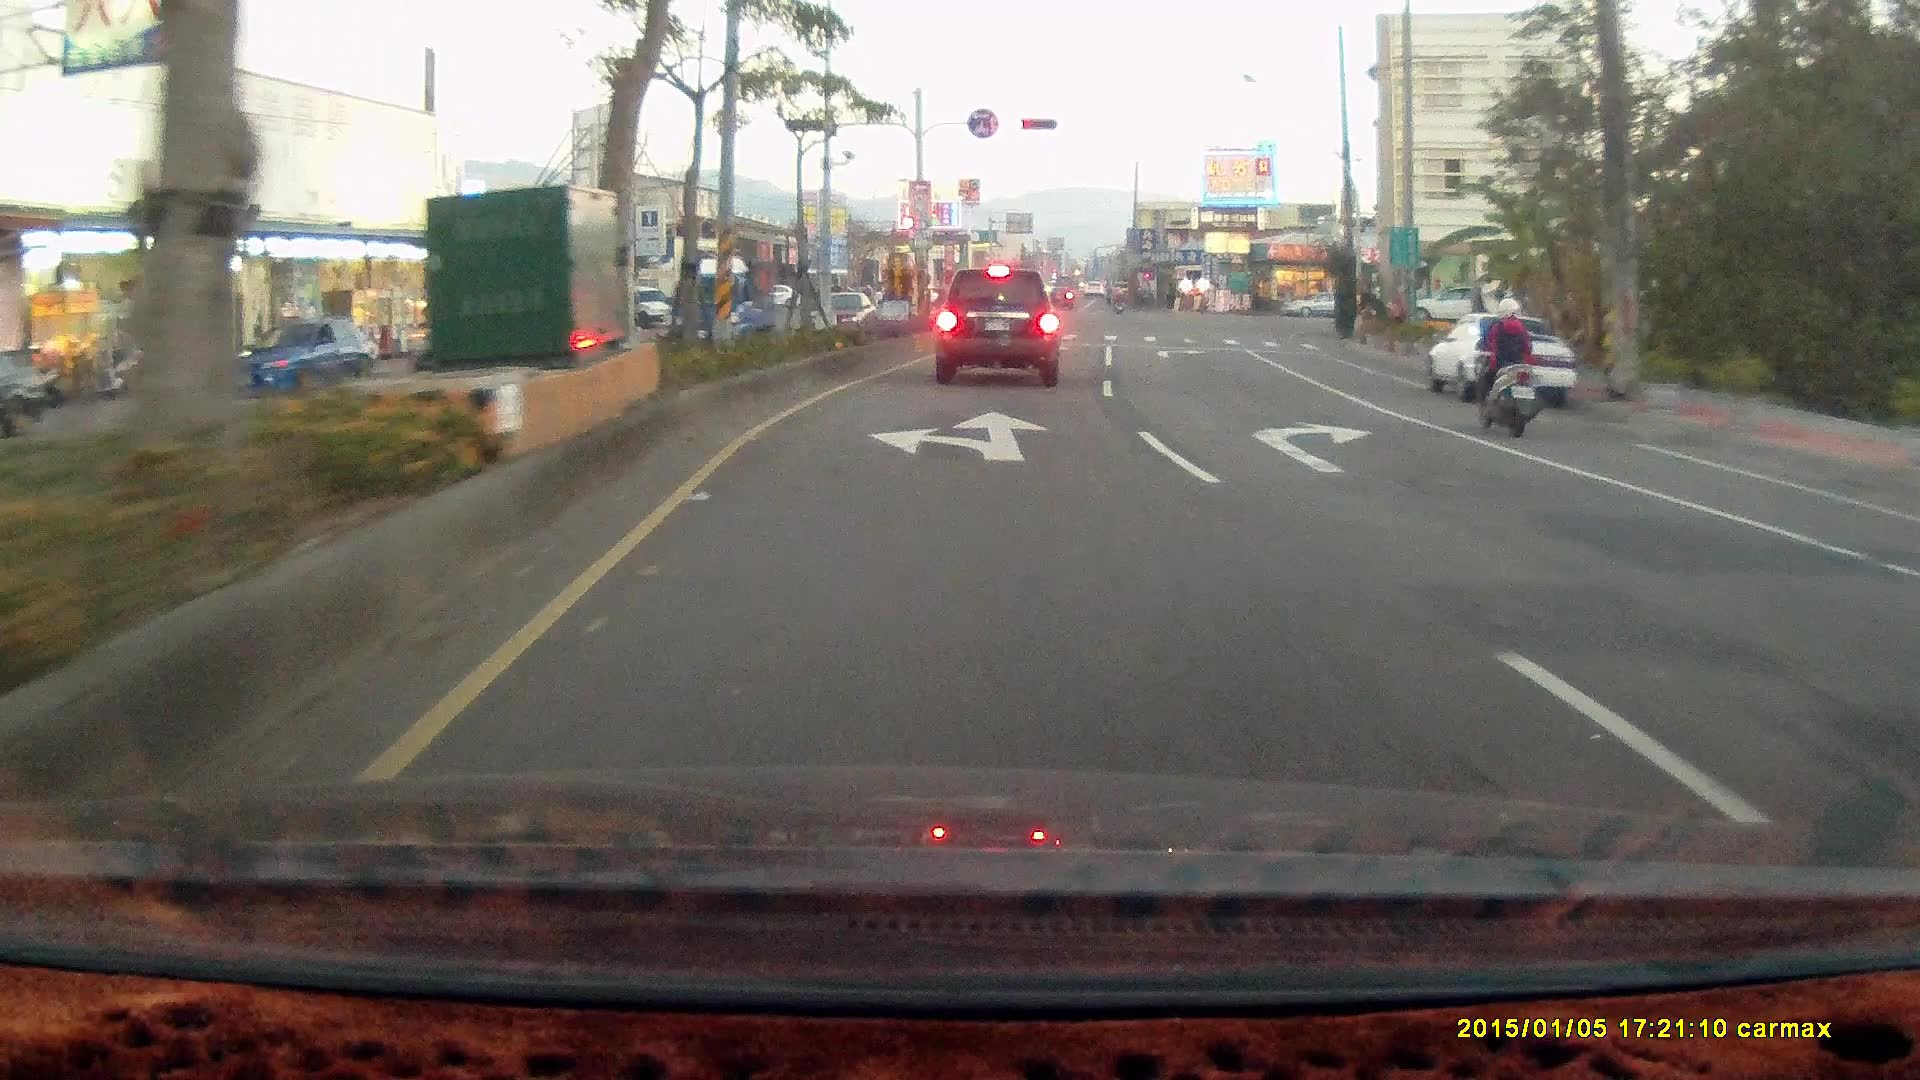rider: (1464, 295, 1542, 438)
vehicle: (933, 266, 1060, 386), (1424, 312, 1578, 407), (1433, 315, 1579, 405), (217, 315, 374, 393), (661, 254, 789, 340), (1896, 493, 1920, 836), (1883, 528, 1920, 690), (1406, 283, 1501, 326), (1282, 289, 1355, 316)
